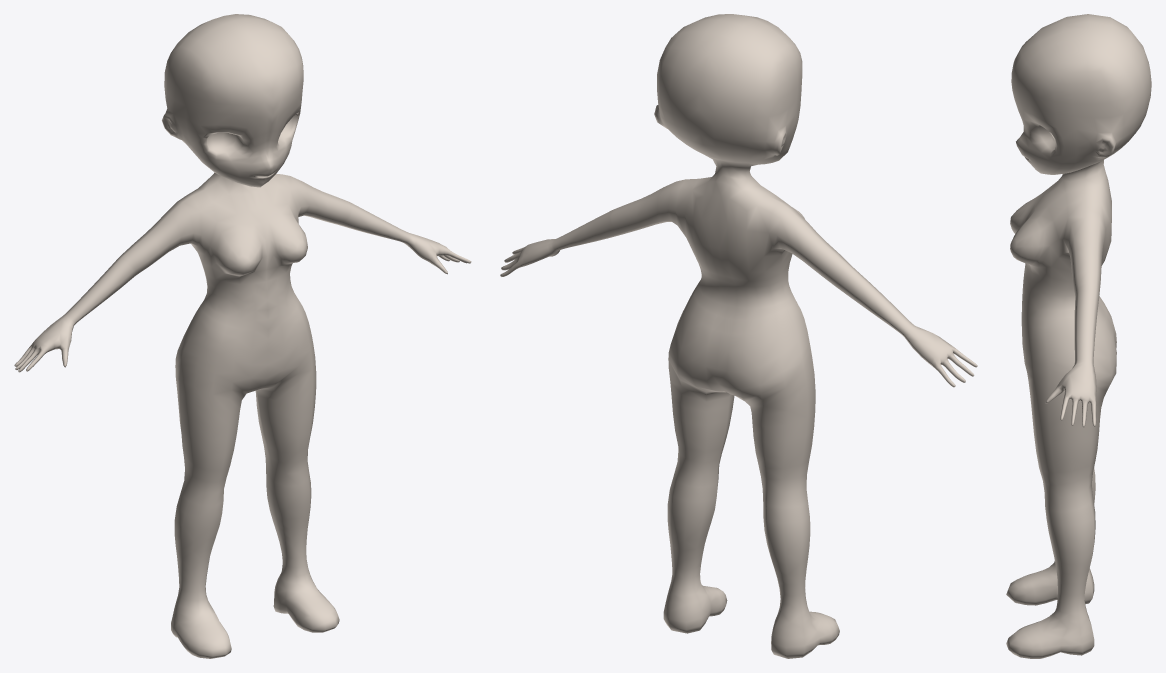
The model's file is base_body_model.fbx.
The picture shows the model from 3 angles, left to right: view 1: azimuth 30°, elevation 25°; view 2: azimuth 150°, elevation 25°; view 3: azimuth 270°, elevation 25°; orthographic projection. The views are drawn at different scales.
Parts seen in each view (by area): view 1: Plane.049; view 2: Plane.049; view 3: Plane.049.
Boxes of the visible parts, x1,y1,x2,y2 form: Plane.049: (14, 14, 471, 658); Plane.049: (500, 14, 977, 658); Plane.049: (1006, 14, 1151, 658).
Size of the model in its own units: 334 by 423 by 92.52.
